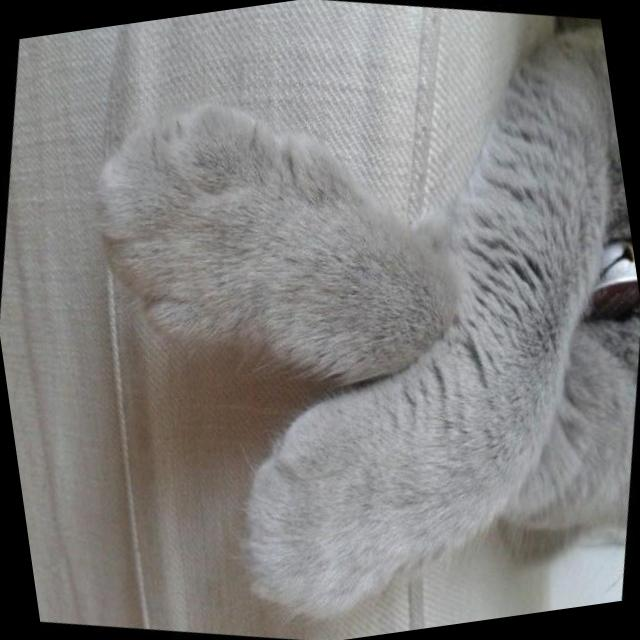Healthy skin: (177, 182, 401, 350), (510, 54, 630, 242), (288, 429, 429, 569), (432, 300, 556, 449), (532, 367, 640, 507)
